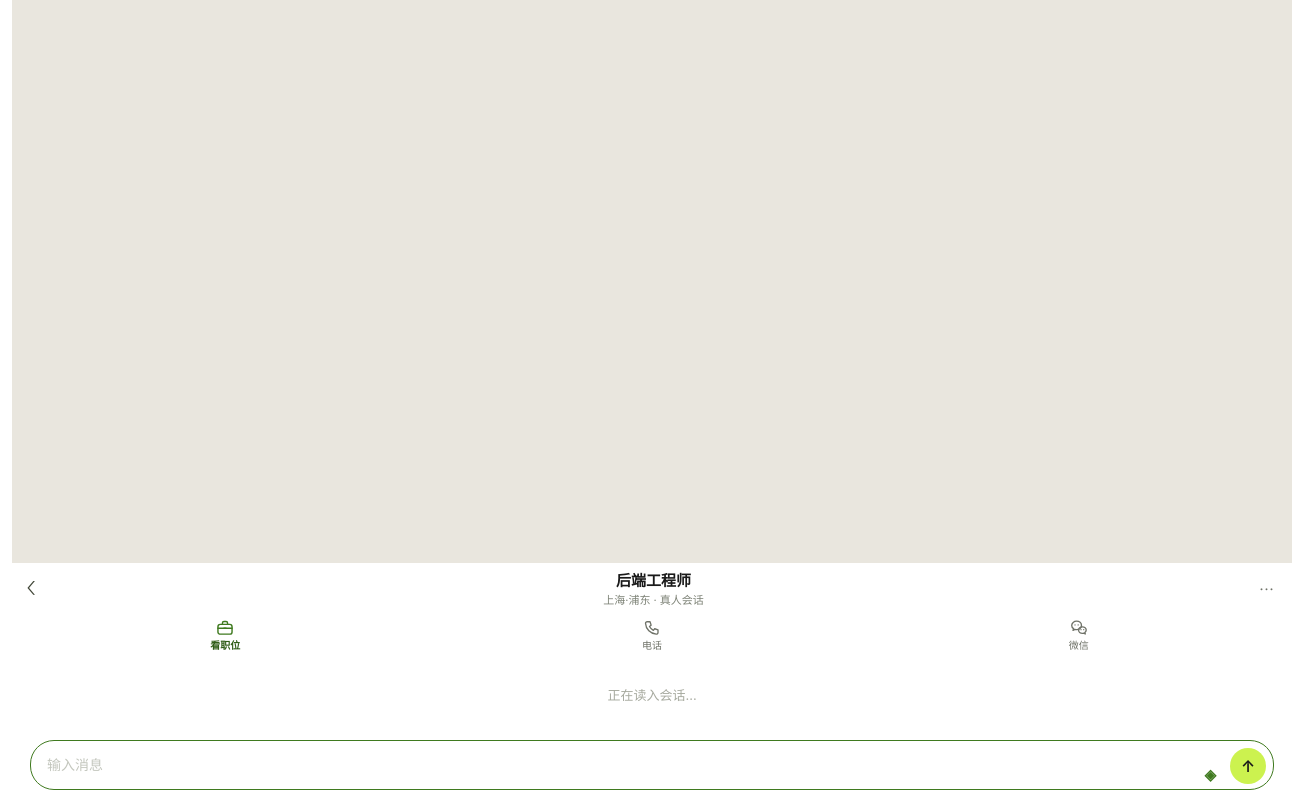
Test: Backend真人会话 › reason=in_progress 显示「消息仍在处理中，请稍后重试」，不提供放弃
(page scrolled)
Type "你好" into the text box labelled "输入消息" at coordinates (619, 765), box 47,746 -> 1190,784
Then press Enter
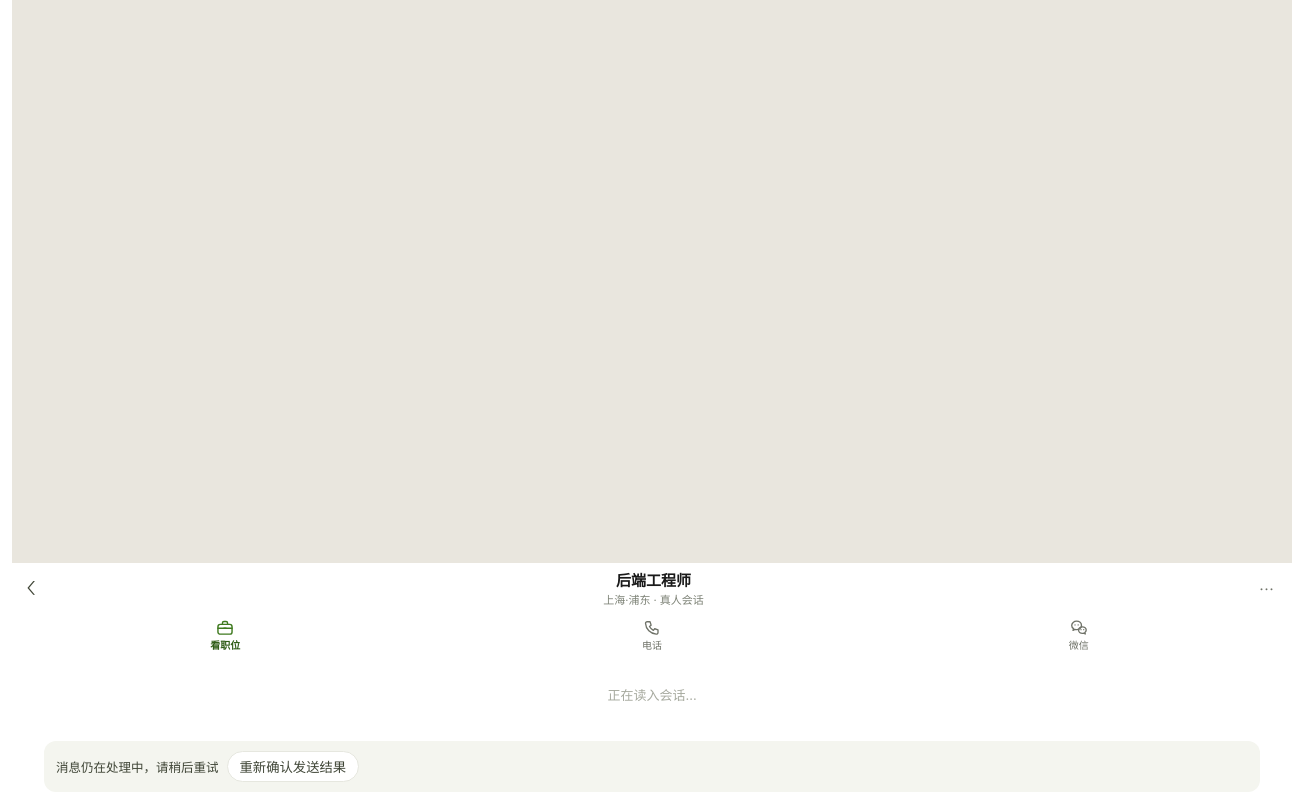
expect the text "消息仍在处理中，请稍后重试" is shown: met, box 56,757 -> 218,776
expect the button "重新确认发送结果" is shown: met, box 226,751 -> 359,782
